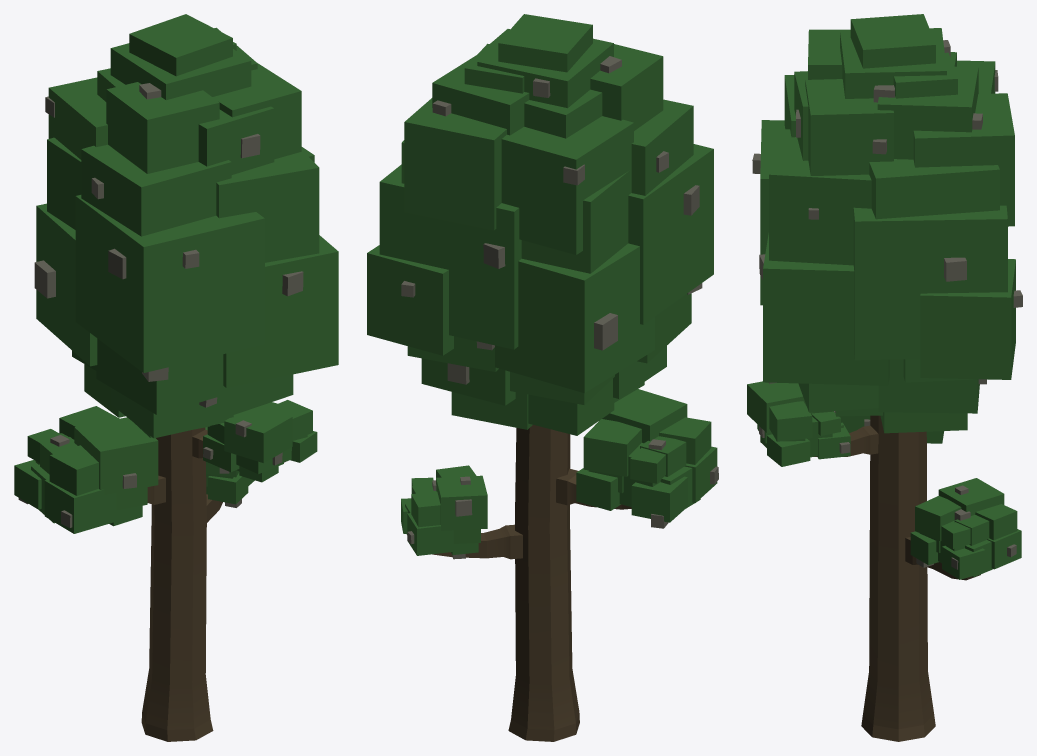
The model's file is Conifer_Tree_Pinecones.fbx.
3 views of the same model, side by side, from view 1: azimuth 30°, elevation 25°; view 2: azimuth 150°, elevation 25°; view 3: azimuth 270°, elevation 25° (orthographic).
Parts seen in each view (by area): view 1: Foliage_geo_01, Trunk, Bushel_01_geo_grp_Foliage_geo_01, Bushel_03_geo_grp_Foliage_geo_01, Pinecone_geo1, Bushel_02_geo_grp_Foliage_geo_01; view 2: Foliage_geo_01, Trunk, Bushel_01_geo_grp_Foliage_geo_01, Bushel_02_geo_grp_Foliage_geo_01, Pinecone_geo1; view 3: Foliage_geo_01, Trunk, Bushel_02_geo_grp_Foliage_geo_01, Bushel_03_geo_grp_Foliage_geo_01, Pinecone_geo1, Bushel_01_geo_grp_Foliage_geo_01.
Boxes of the visible parts, x1,y1,x2,y2 form: Foliage_geo_01: (36,14,338,438); Trunk: (141,427,222,741); Bushel_01_geo_grp_Foliage_geo_01: (14,406,158,533); Bushel_03_geo_grp_Foliage_geo_01: (203,400,317,482); Pinecone_geo1: (18,83,303,527); Bushel_02_geo_grp_Foliage_geo_01: (205,427,254,504); Foliage_geo_01: (367,14,713,435); Trunk: (432,425,631,741); Bushel_01_geo_grp_Foliage_geo_01: (576,389,717,522); Bushel_02_geo_grp_Foliage_geo_01: (401,465,487,555); Pinecone_geo1: (401,56,718,559); Foliage_geo_01: (760,14,1015,433); Trunk: (813,415,980,741); Bushel_02_geo_grp_Foliage_geo_01: (910,478,1021,579); Bushel_03_geo_grp_Foliage_geo_01: (747,381,850,466); Pinecone_geo1: (752,40,1022,569); Bushel_01_geo_grp_Foliage_geo_01: (839,416,944,443).
Bounding box in the file's own units: 275 × 683 × 246.
